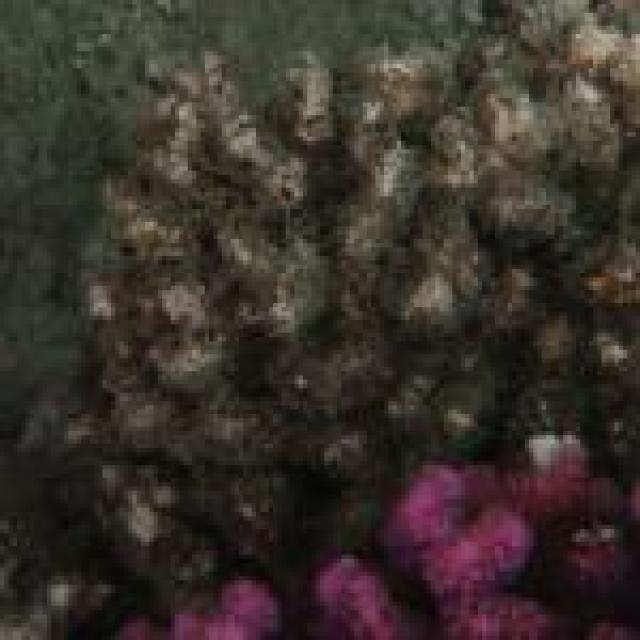Dead Coral: (0, 0, 640, 409), (16, 419, 324, 582)
Healthy Coral: (390, 456, 640, 640)
